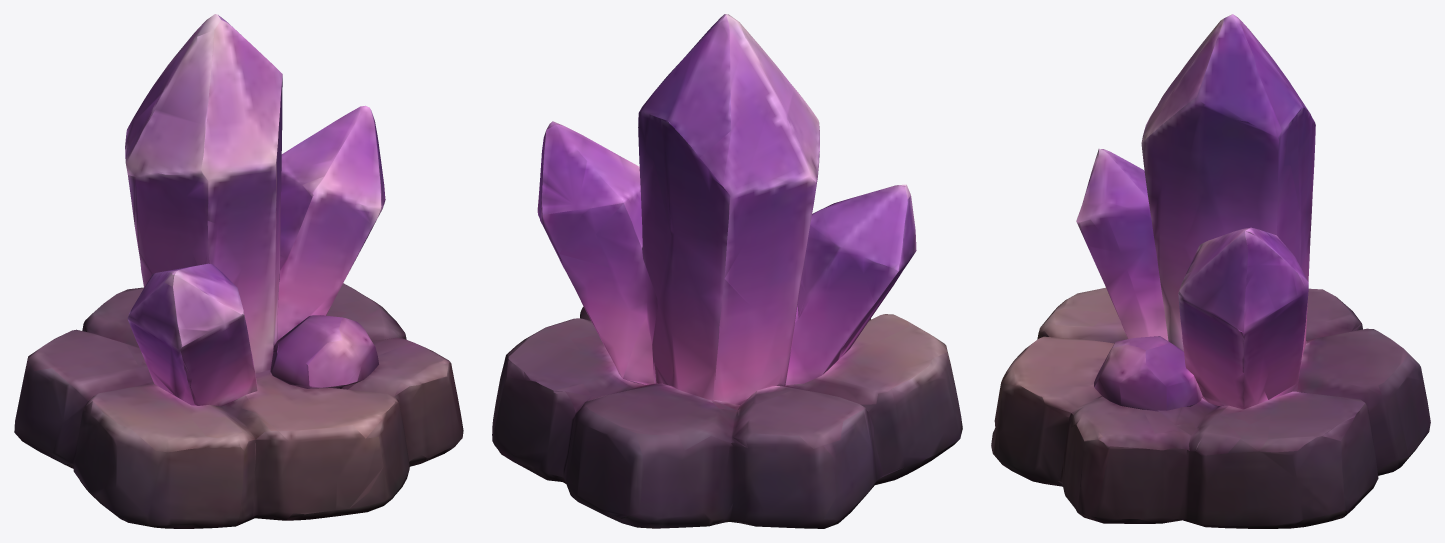
Rendered from deco21.glb.
3 renders of one model, left to right at view 1: azimuth 30°, elevation 25°; view 2: azimuth 150°, elevation 25°; view 3: azimuth 270°, elevation 25°, orthographic. The views are drawn at different scales.
Bounding box in the file's own units: 0.2015 × 0.2309 × 0.2167.
Materials: 1 (1 with a texture image).
